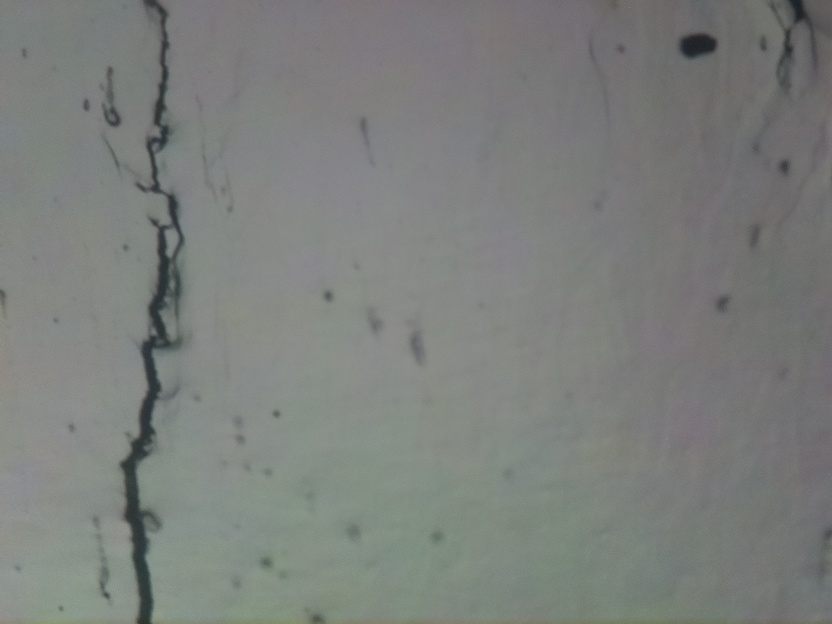crack: (117, 0, 185, 624), (777, 0, 819, 90)
